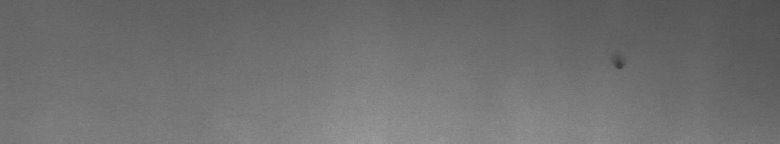fi: (612, 58, 626, 76)
